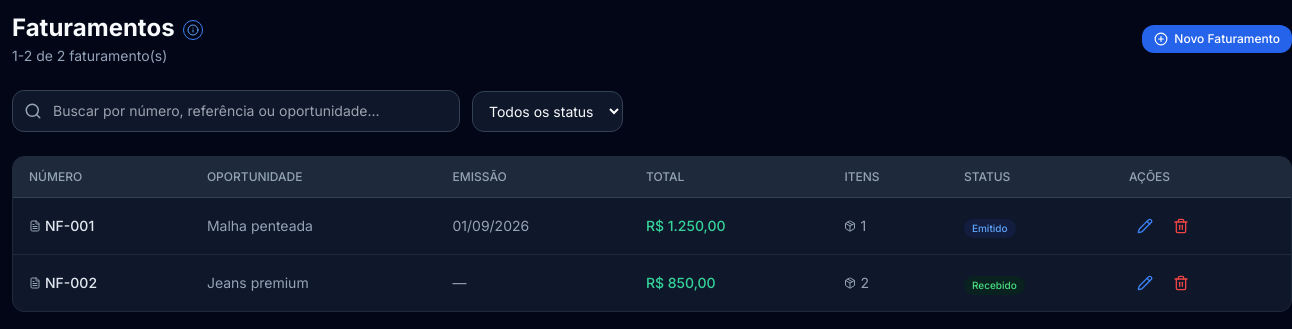
FaturamentosPage › busca com debounce e filtra
Check: the text "NF-001" is shown, box [29,216,94,236]
Type "NF-002" into the field with placeholder "Buscar por número, referência ou oportunidade..." at (236, 111), box [12,90,460,132]
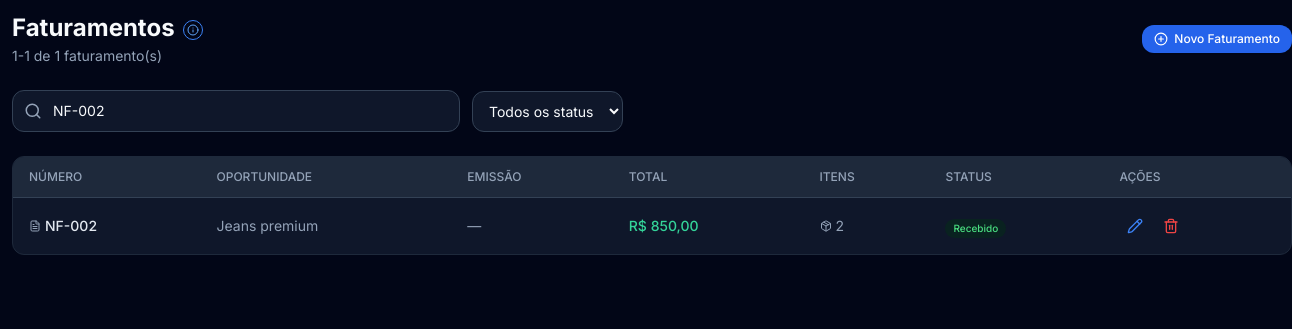
Check: the text "NF-002" is shown, box [29,216,97,236]
Check: the text "NF-001" is gone
